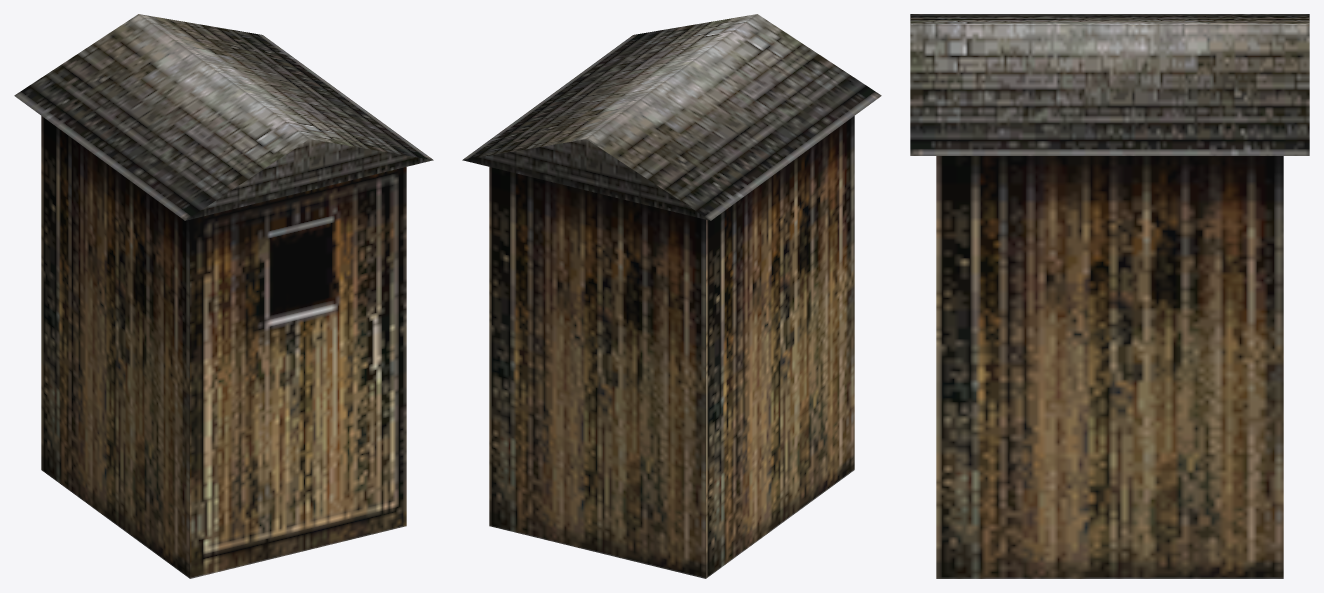
Rendered from Environment - Prop - Out House - PMOUTHOUS.glb.
3 views of the same model, side by side, from view 1: azimuth 30°, elevation 25°; view 2: azimuth 150°, elevation 25°; view 3: azimuth 270°, elevation 25° (orthographic). The views are drawn at different scales.
Parts seen in each view (by area): view 1: PMOUTHOUS; view 2: PMOUTHOUS; view 3: PMOUTHOUS.
Boxes of the visible parts, x1,y1,x2,y2 form: PMOUTHOUS: (14,14,433,578); PMOUTHOUS: (462,14,881,578); PMOUTHOUS: (910,14,1309,578).
Bounding box in the file's own units: 10.4 × 16.83 × 12.37.
Materials: 1 (1 with a texture image).
